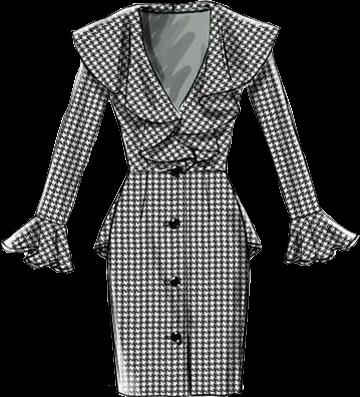Bodice: (71, 1, 277, 173)
Hemline: (118, 391, 242, 396)
Neckline: (137, 1, 211, 112)
Skirt: (93, 169, 261, 396)
Sleeve: (244, 52, 359, 265), (1, 60, 108, 273)
Sleeveline: (78, 60, 112, 94), (242, 50, 272, 88), (290, 205, 322, 220), (35, 211, 68, 224)
Waistline: (127, 168, 226, 177)
